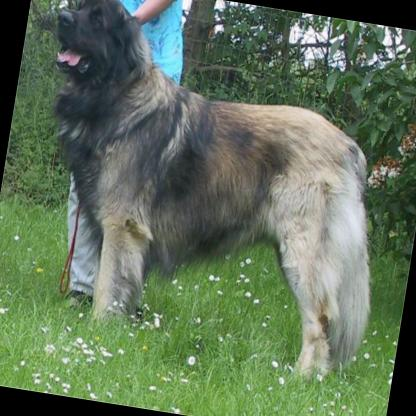Leonberg: (5, 0, 411, 389)
